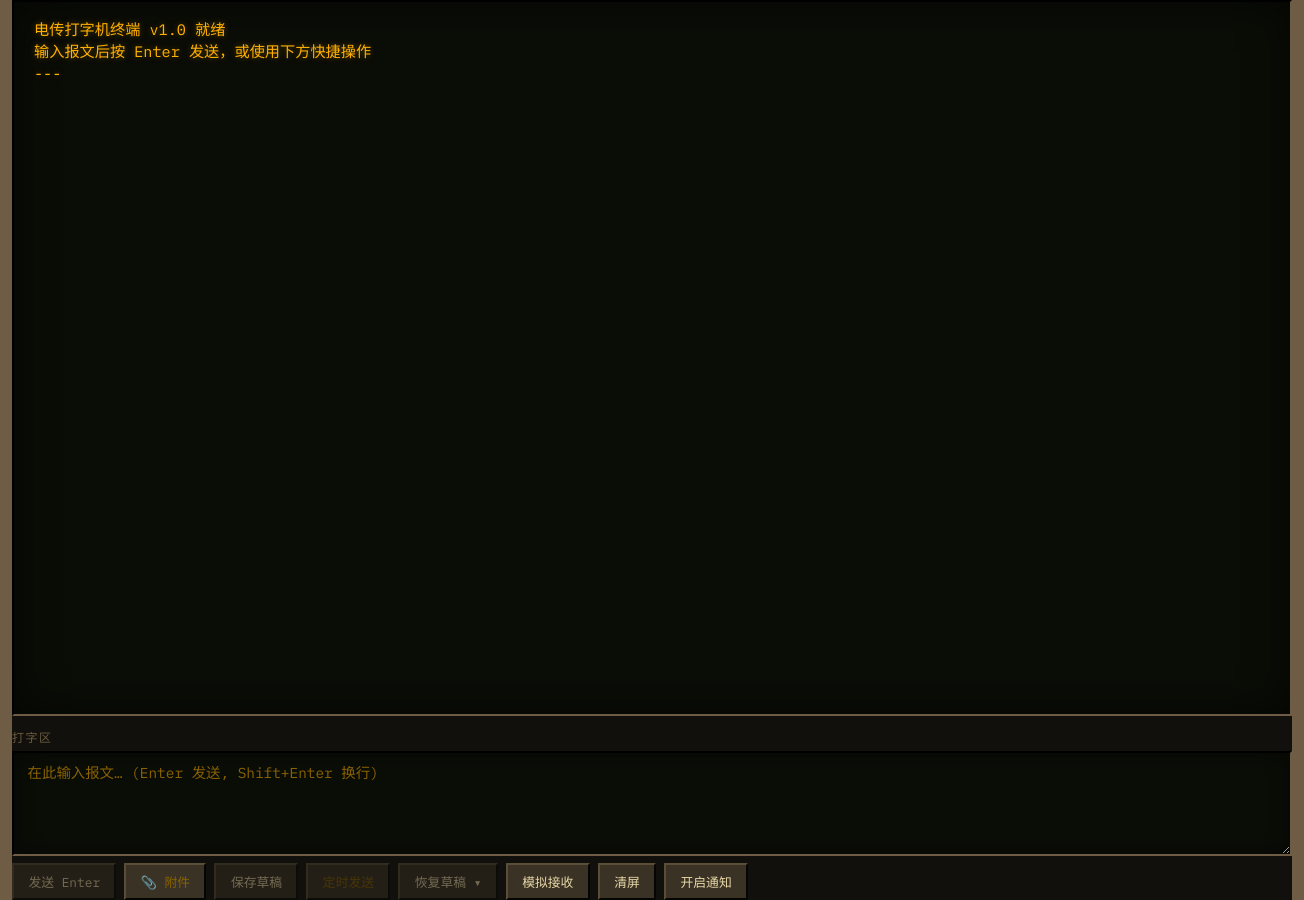
Test case: TerminalPage › 报文发送功能 › 应该在输入有内容时启用发送按钮
This screenshot has width=1304, height=900.
Type "test" into the text box labelled "打字区" at [652, 804], box [12, 751, 1292, 856]
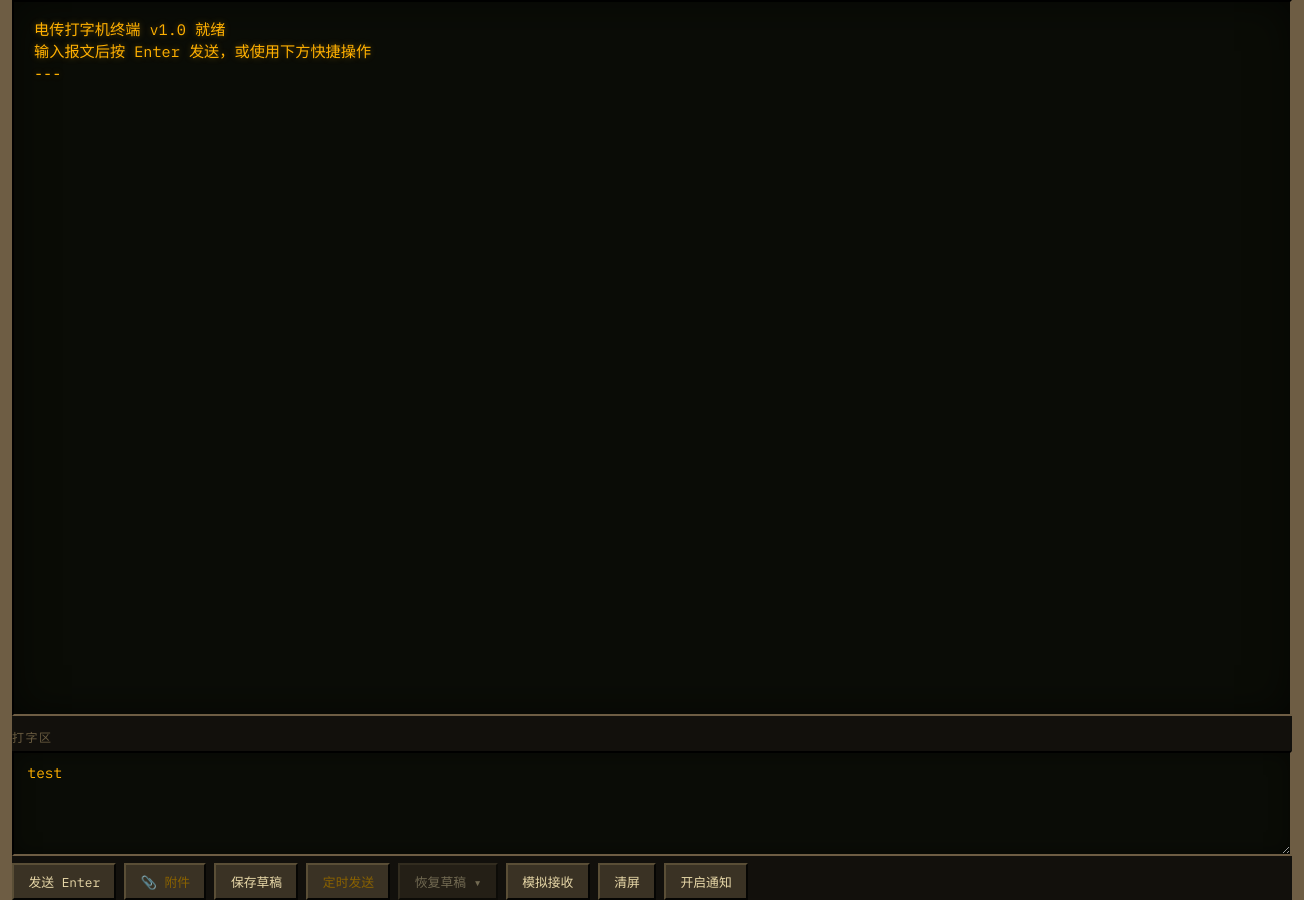
Expected: the button "发送 Enter" is enabled, [12, 863, 116, 899]
